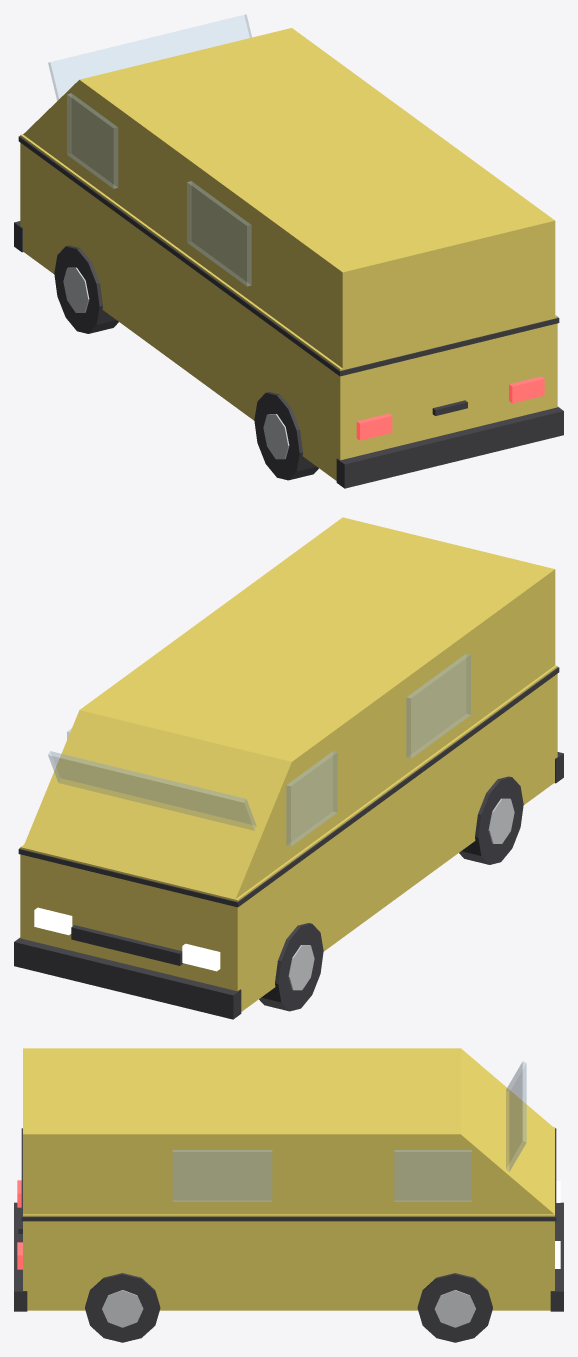
Rendered from car_van_yellow.glb.
The picture shows the model from 3 angles, top to bottom: view 1: azimuth 30°, elevation 25°; view 2: azimuth 150°, elevation 25°; view 3: azimuth 270°, elevation 25°; orthographic projection. The views are drawn at different scales.
Parts seen in each view (by area): view 1: body, wheel_fl, wheel_rl; view 2: body, wheel_rl, wheel_fl; view 3: body, wheel_fr, wheel_rr.
Part boxes in pixels (x1=…): body: x1=14, y1=14, x2=563, y2=488; wheel_fl: x1=54, y1=245, x2=118, y2=333; wheel_rl: x1=254, y1=392, x2=318, y2=480; body: x1=14, y1=517, x2=563, y2=1019; wheel_rl: x1=459, y1=776, x2=523, y2=864; wheel_fl: x1=259, y1=923, x2=323, y2=1011; body: x1=14, y1=1048, x2=563, y2=1311; wheel_fr: x1=417, y1=1273, x2=492, y2=1342; wheel_rr: x1=85, y1=1273, x2=160, y2=1342.
Bounding box in the file's own units: 1.96 × 2.12 × 4.96.
